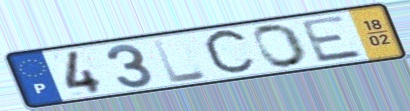3: (105, 42, 155, 90)
4: (62, 49, 105, 95)
C: (200, 26, 260, 79)
E: (297, 13, 368, 65)
L: (150, 36, 210, 85)
O: (252, 23, 310, 70)
